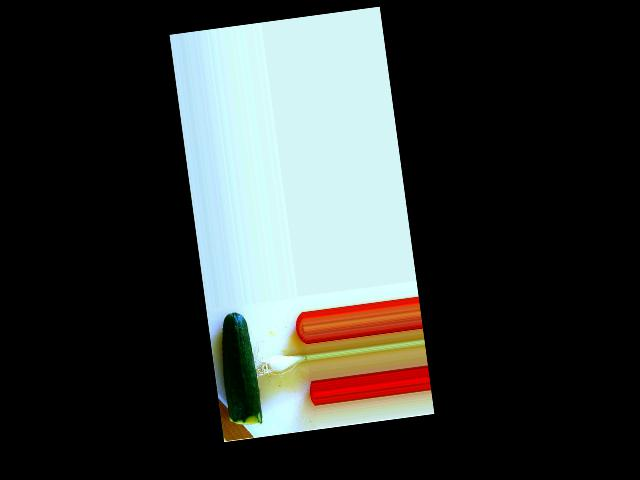cucumber: (214, 309, 262, 427)
